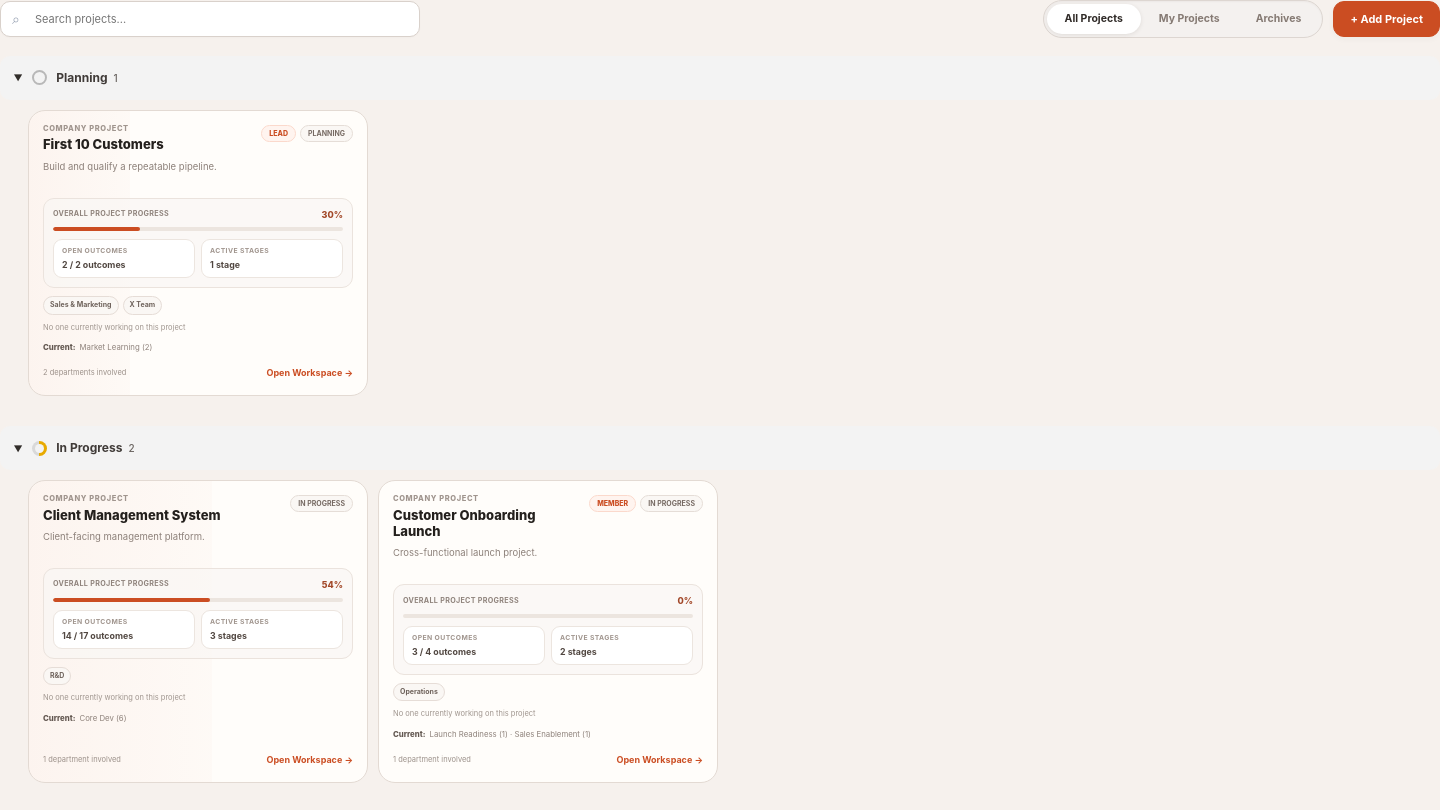
Test: ProjectsPage › opens Add Project dialog when + Add Project is clicked
The image size is (1440, 810).
Check: the heading "First 10 Customers" is shown, box [43, 136, 164, 153]
Click the button "+ Add Project".
click(1387, 19)  # box [1333, 1, 1439, 37]
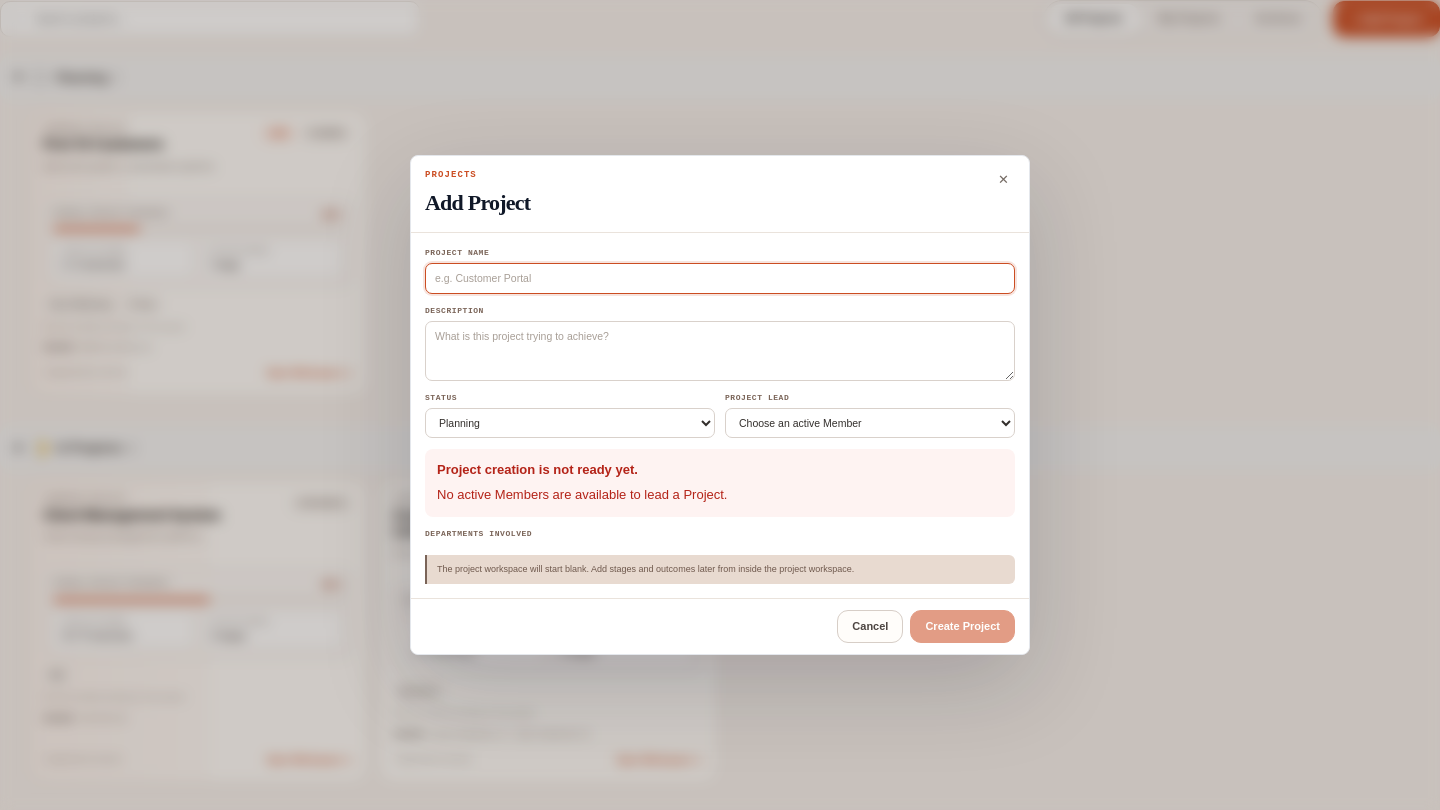
Check: the dialog "Add Project" is shown, box [410, 155, 1030, 655]
